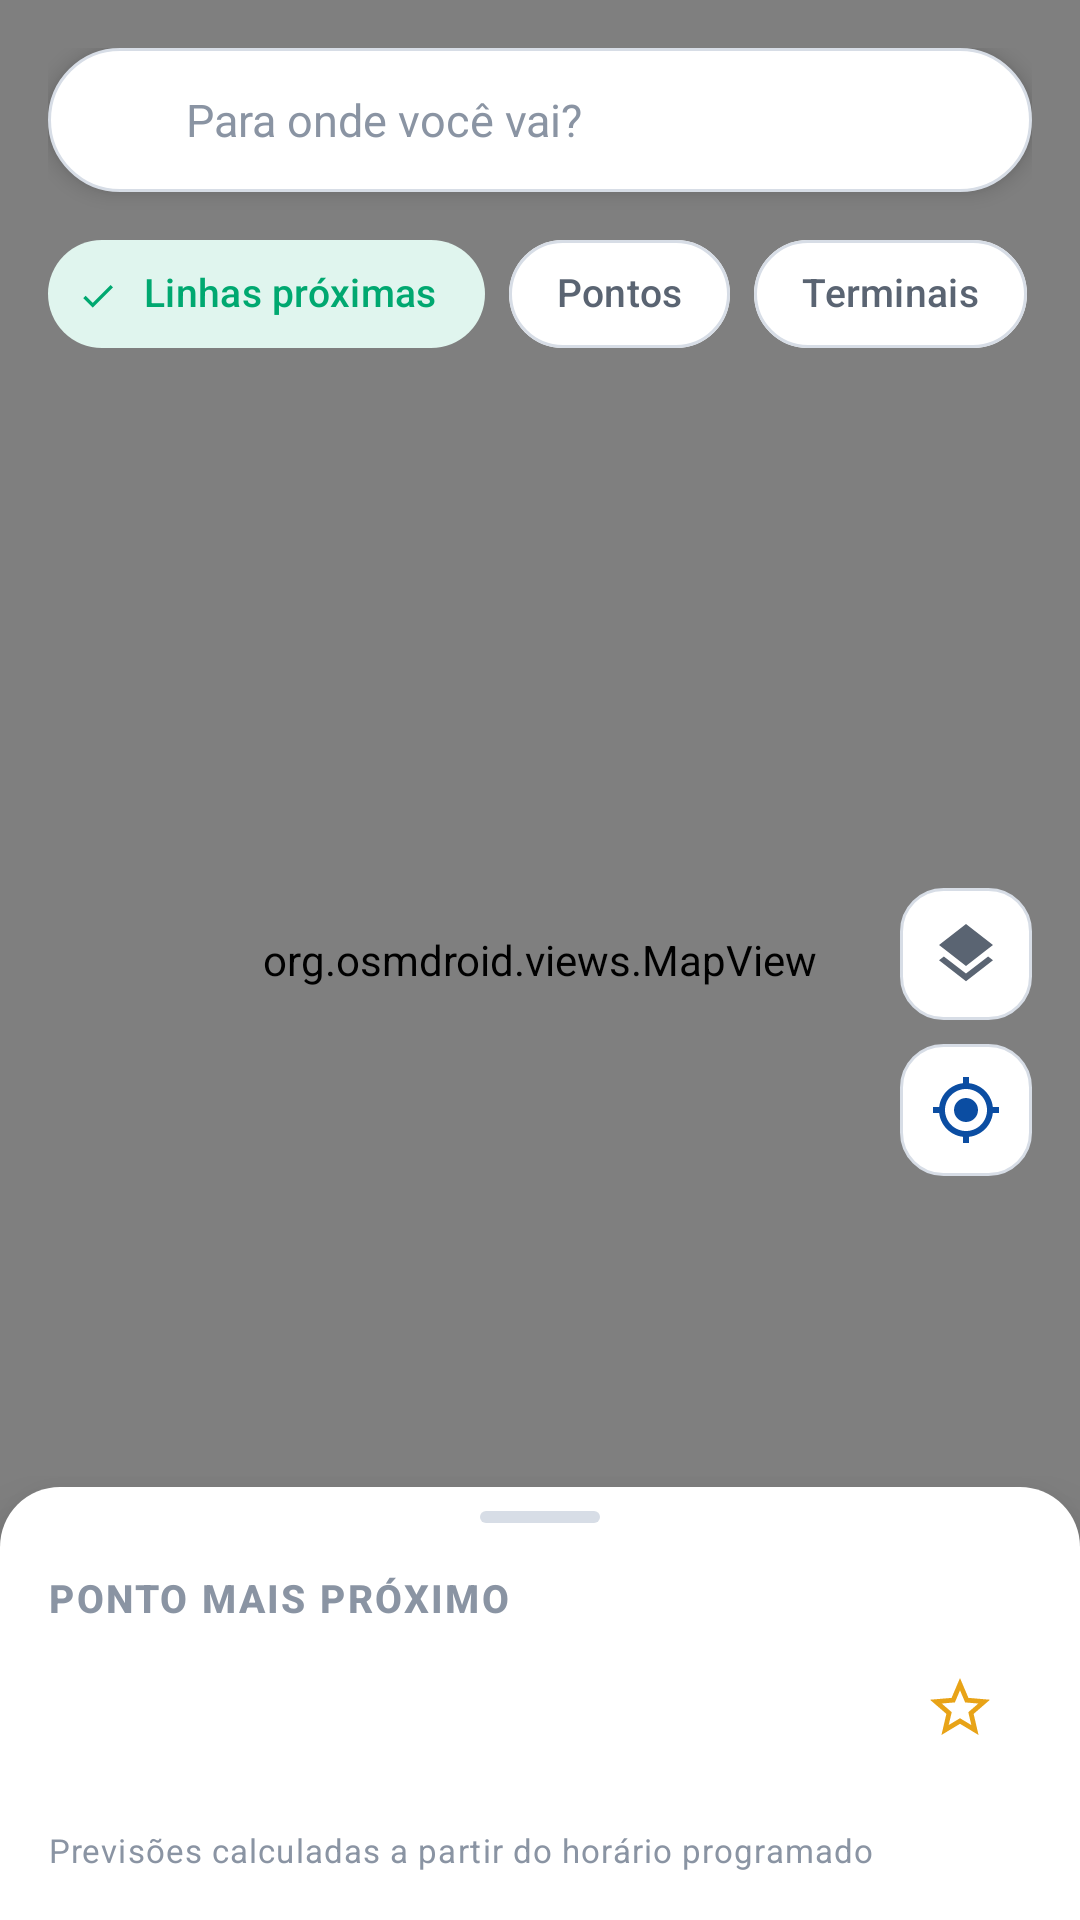

Point at icon controls on the screen. Image size 1080x1920, points as (x=x, y=y).
Alternar camada do mapa: (x=966, y=954)
Centralizar na minha localização: (x=966, y=1110)
Favorito: (x=960, y=1706)
